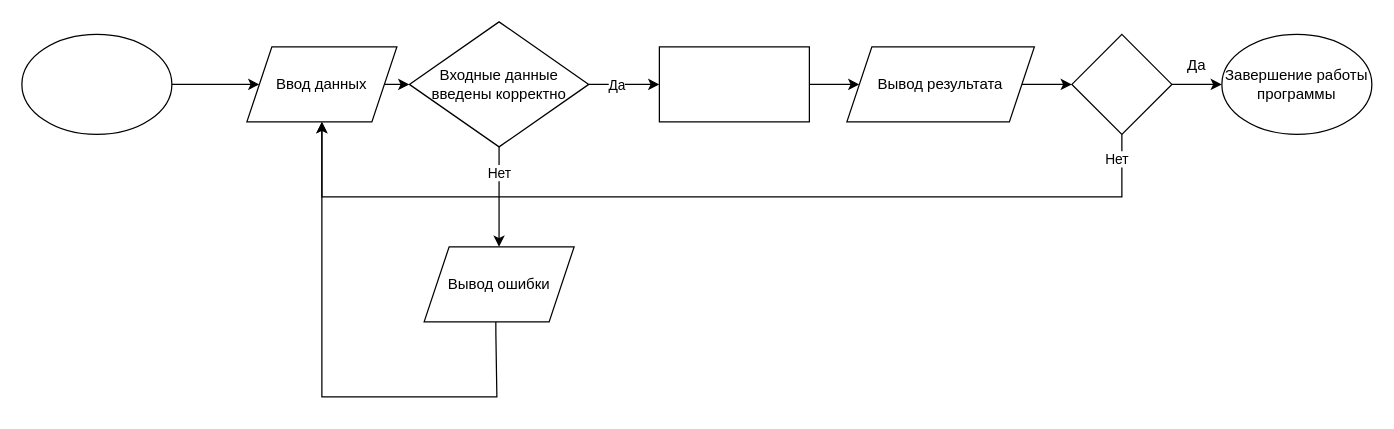
Some shapes in this 1394 by 429 pixel diagram are drawn without their labels. The shapes that lost their labels are listed below. From the top down, each one's centre as x and y in pixels, then its label:
(x=96, y=83): Инициализация
(x=733, y=84): Вычисление результата
(x=1121, y=83): нажата кнопка "выход"
